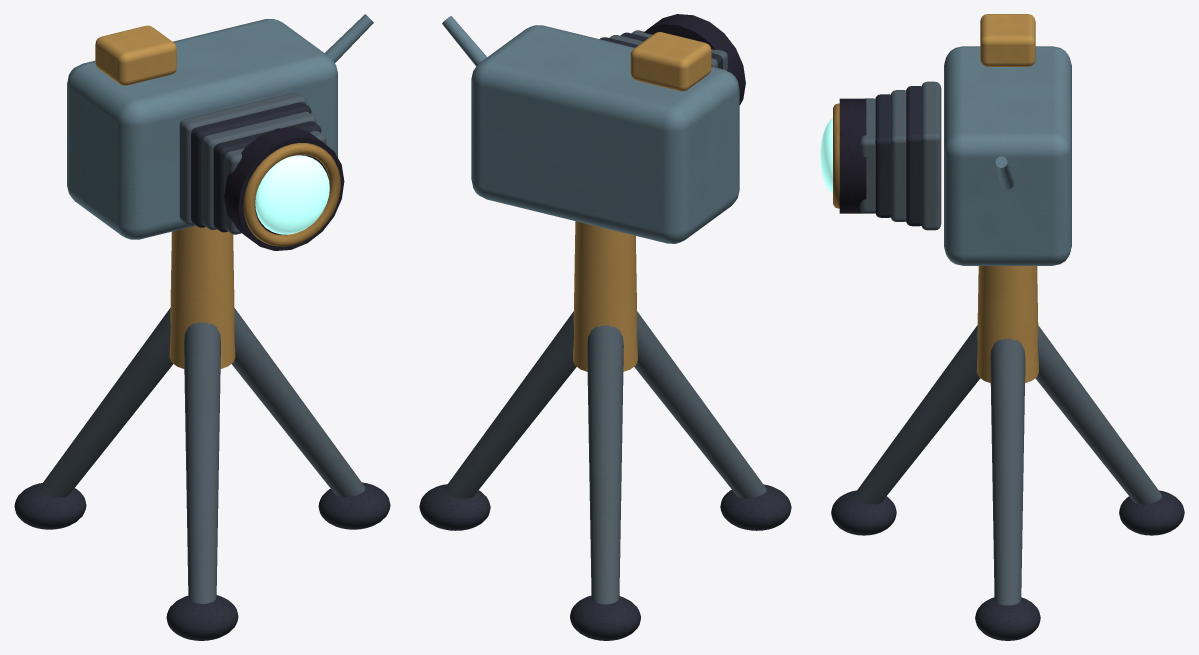
The model's file is iris.glb.
3 renders of one model, left to right at view 1: azimuth 30°, elevation 25°; view 2: azimuth 150°, elevation 25°; view 3: azimuth 270°, elevation 25°, orthographic. The views are drawn at different scales.
Visible parts, largest first — view 1: Bellows camera, Camera tripod (×3), Bellows fold (×5), Camera column, Tripod foot (×3), Optical glass, Finder, Barrel, Lens bezel, Cable release; view 2: Bellows camera, Camera tripod (×3), Camera column, Tripod foot (×3), Finder, Barrel, Cable release; view 3: Bellows camera, Camera tripod (×3), Bellows fold (×5), Tripod foot (×3), Camera column, Barrel, Finder, Optical glass, Lens bezel.
Boxes of the visible parts, x1=… form: Bellows camera: x1=67, y1=19, x2=337, y2=239; Camera tripod (×3): x1=39, y1=308, x2=365, y2=603; Bellows fold (×5): x1=179, y1=92, x2=326, y2=234; Camera column: x1=169, y1=225, x2=235, y2=368; Tripod foot (×3): x1=14, y1=482, x2=390, y2=640; Optical glass: x1=255, y1=155, x2=329, y2=234; Finder: x1=95, y1=25, x2=176, y2=85; Barrel: x1=224, y1=127, x2=344, y2=250; Lens bezel: x1=243, y1=143, x2=340, y2=246; Cable release: x1=325, y1=14, x2=373, y2=62; Bellows camera: x1=471, y1=25, x2=739, y2=243; Camera tripod (×3): x1=444, y1=311, x2=766, y2=604; Camera column: x1=573, y1=221, x2=637, y2=371; Tripod foot (×3): x1=419, y1=484, x2=791, y2=640; Finder: x1=630, y1=32, x2=711, y2=91; Barrel: x1=644, y1=14, x2=745, y2=105; Cable release: x1=442, y1=16, x2=486, y2=66; Bellows camera: x1=944, y1=46, x2=1071, y2=265; Camera tripod (×3): x1=853, y1=325, x2=1162, y2=605; Bellows fold (×5): x1=859, y1=81, x2=941, y2=230; Tripod foot (×3): x1=831, y1=490, x2=1184, y2=640; Camera column: x1=976, y1=266, x2=1038, y2=382; Barrel: x1=839, y1=98, x2=866, y2=213; Finder: x1=980, y1=14, x2=1035, y2=66; Optical glass: x1=820, y1=118, x2=832, y2=193; Lens bezel: x1=833, y1=103, x2=839, y2=208.
Bounding box in the file's own units: 0.751 × 1.32 × 0.8549.
9 materials, 8 textured.
